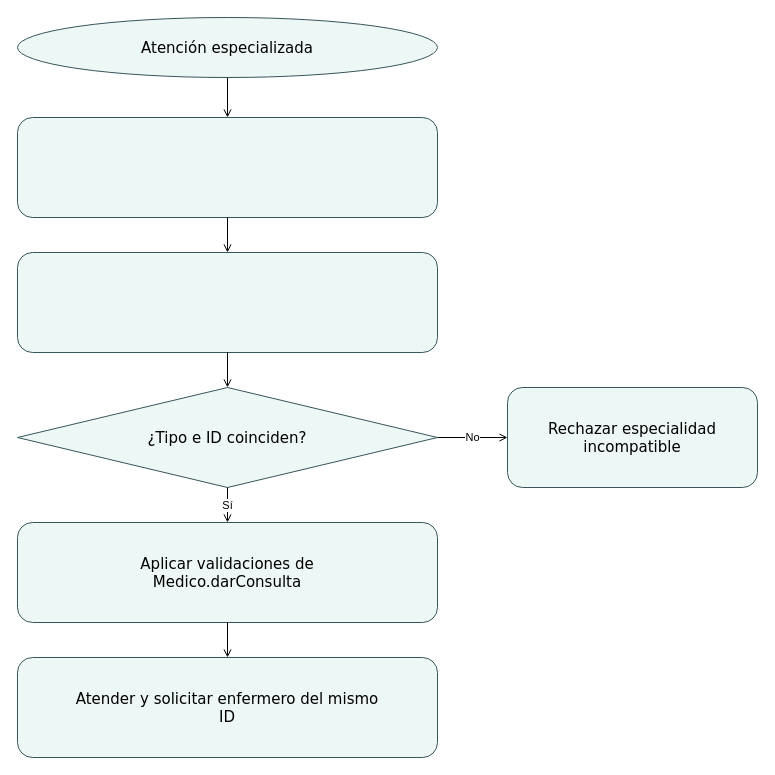
This 775x775 diagram has some shape labels left out. Each missing label, with the centre of its shape:
Obtener ID de especialidad del médico: the point at 227,167
Solicitar paciente de la misma especialidad: the point at 227,302
